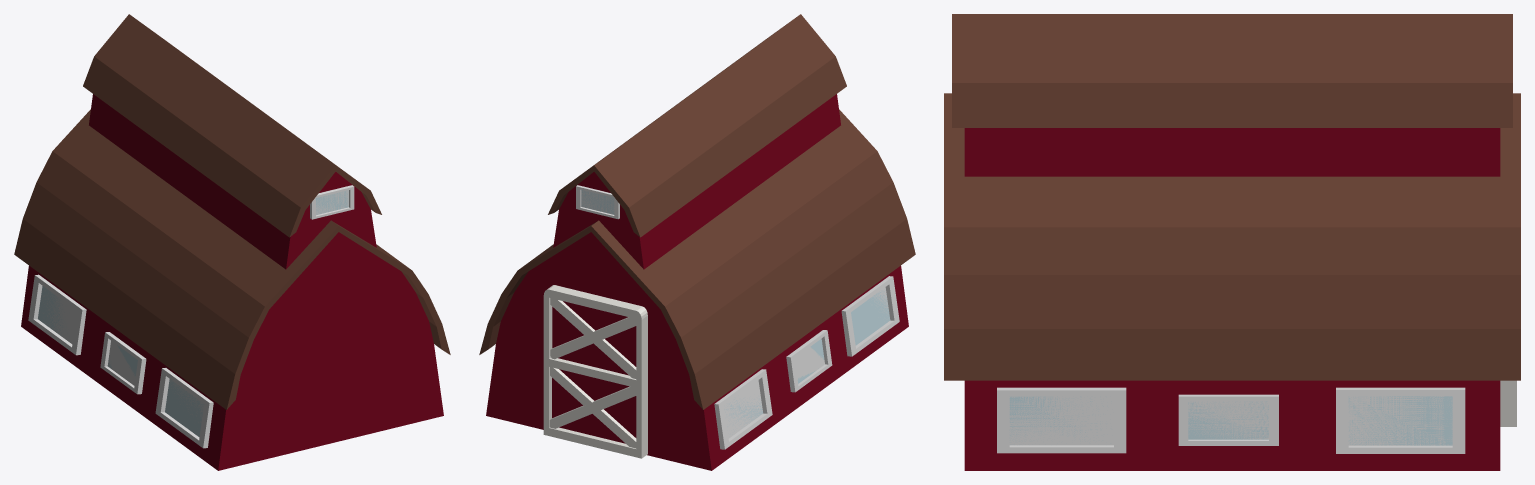
File: Granero.fbx
The picture shows the model from 3 angles, left to right: view 1: azimuth 30°, elevation 25°; view 2: azimuth 150°, elevation 25°; view 3: azimuth 270°, elevation 25°; orthographic projection. The views are drawn at different scales.
Parts seen in each view (by area): view 1: Cube.001; view 2: Cube.001; view 3: Cube.001.
Part boxes in pixels (bbox=[...]): Cube.001: bbox=[14, 14, 450, 470]; Cube.001: bbox=[479, 14, 915, 470]; Cube.001: bbox=[944, 14, 1520, 470].
Bounding box in the file's own units: 4.09 × 4.73 × 6.48.
